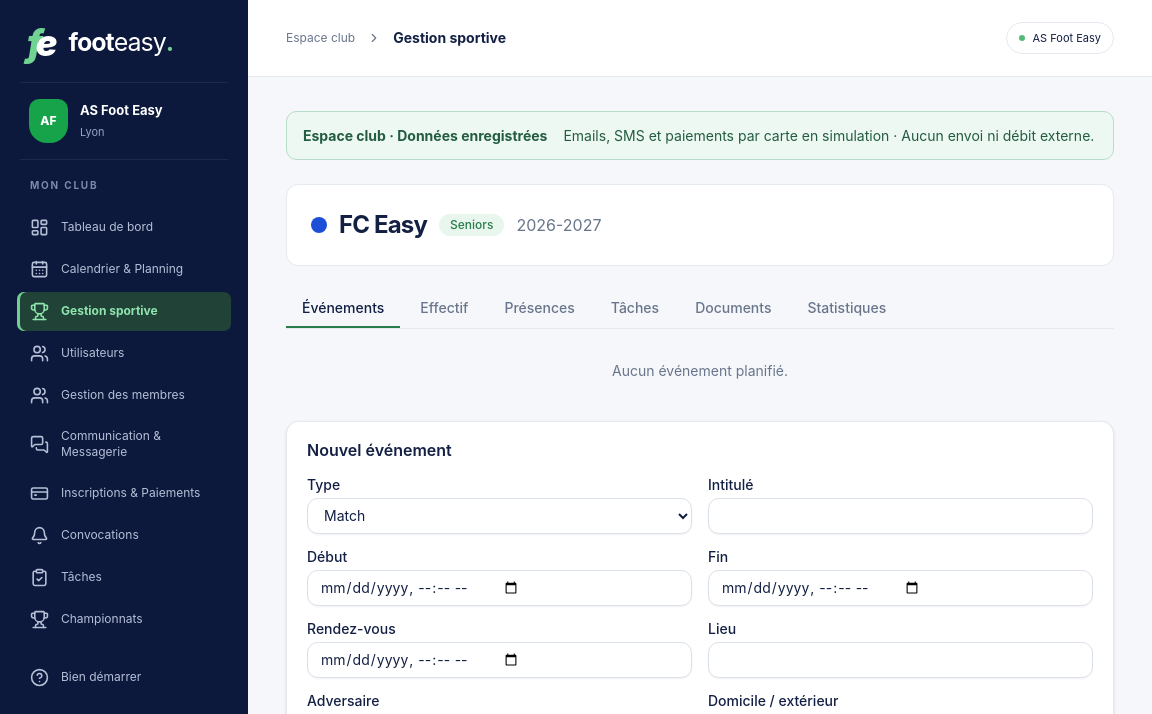
Scenario: TeamPage › shows the empty states for a new team
Expected: the text "Aucun événement planifié." is shown, [612,362,788,379]
Click the tab "Effectif". click: {"x": 444, "y": 309}
box: [404,290,484,328]
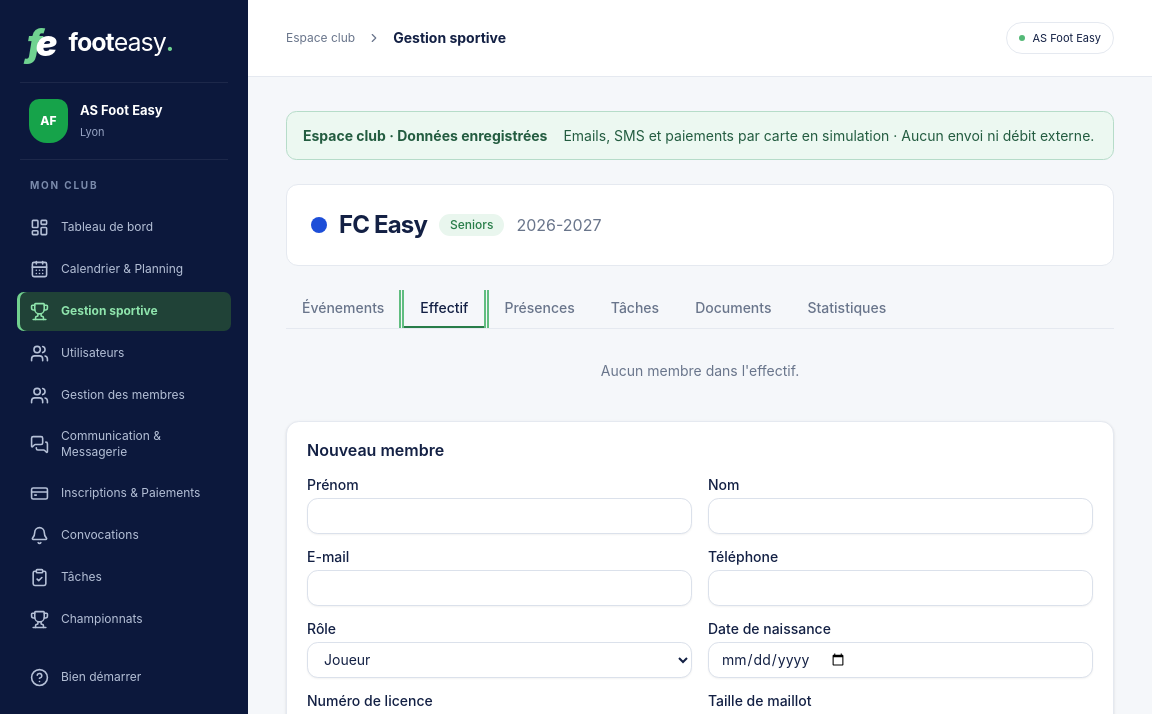
Expected: the text "Aucun membre dans l'effectif." is shown, [601,362,799,379]
